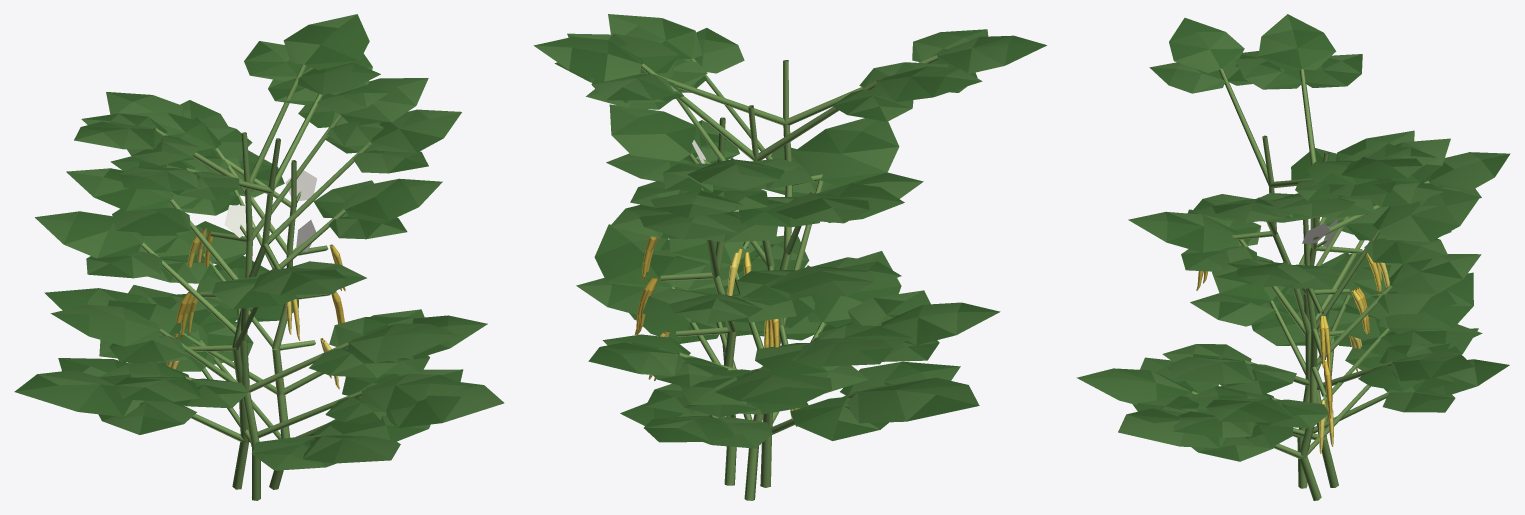
File: haricot_beurre_fruits.glb
The picture shows the model from 3 angles, left to right: view 1: azimuth 30°, elevation 25°; view 2: azimuth 150°, elevation 25°; view 3: azimuth 270°, elevation 25°; orthographic projection. The views are drawn at different scales.
Parts seen in each view (by area): view 1: Haricot_Feuilles, Haricot_Tiges, Haricot_Gousses, Haricot_Fleurs; view 2: Haricot_Feuilles, Haricot_Tiges, Haricot_Gousses; view 3: Haricot_Feuilles, Haricot_Tiges, Haricot_Gousses.
Boxes of the visible parts, x1,y1,x2,y2 form: Haricot_Feuilles: (14,14,504,470); Haricot_Tiges: (141,64,371,500); Haricot_Gousses: (166,227,345,389); Haricot_Fleurs: (224,170,317,251); Haricot_Feuilles: (533,14,1046,448); Haricot_Tiges: (641,55,937,500); Haricot_Gousses: (634,236,799,426); Haricot_Feuilles: (1076,14,1510,461); Haricot_Tiges: (1192,68,1429,500); Haricot_Gousses: (1196,253,1389,453).
Size of the model in its own units: 0.4256 by 0.412 by 0.4191.
